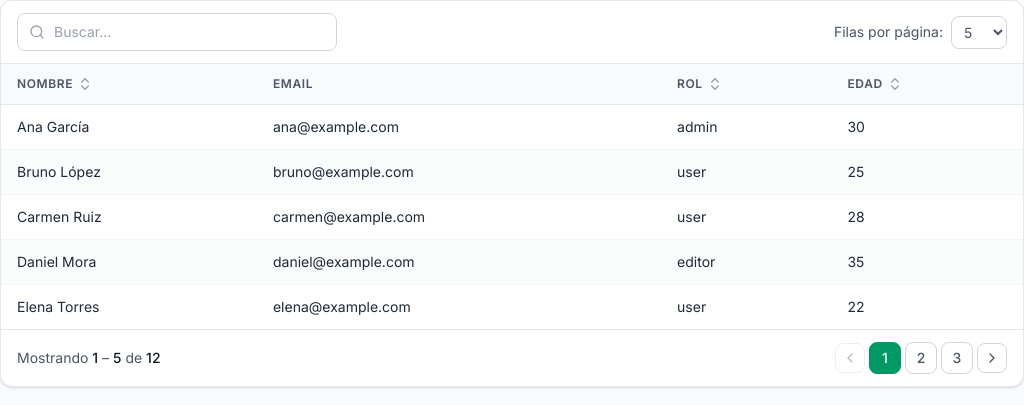
Test: DataTable — Paginación › navega a una página específica al hacer clic en su número
What coordinates should you click on to do the following:
click the button named "ir a página 3"
I would click on:
 (957, 358)
Its box is [941, 342, 973, 374].
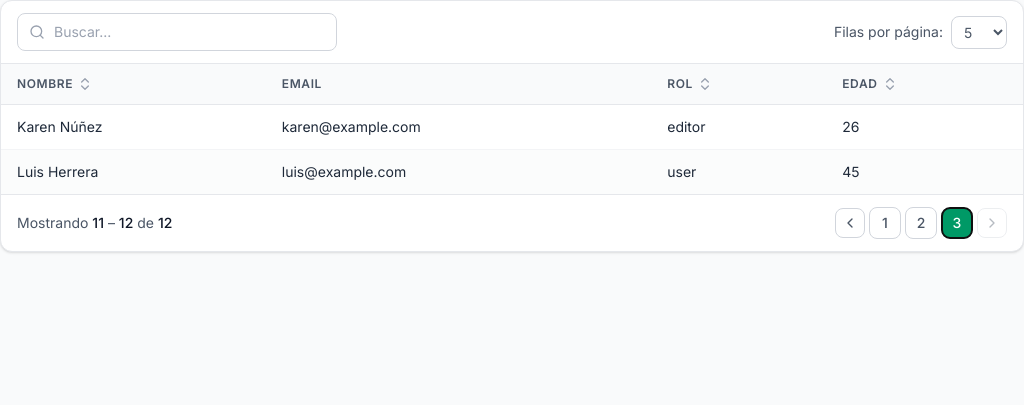
Now the text "Karen Núñez" is shown, box [1, 104, 266, 150]
Now the text "Luis Herrera" is shown, box [1, 150, 266, 194]
